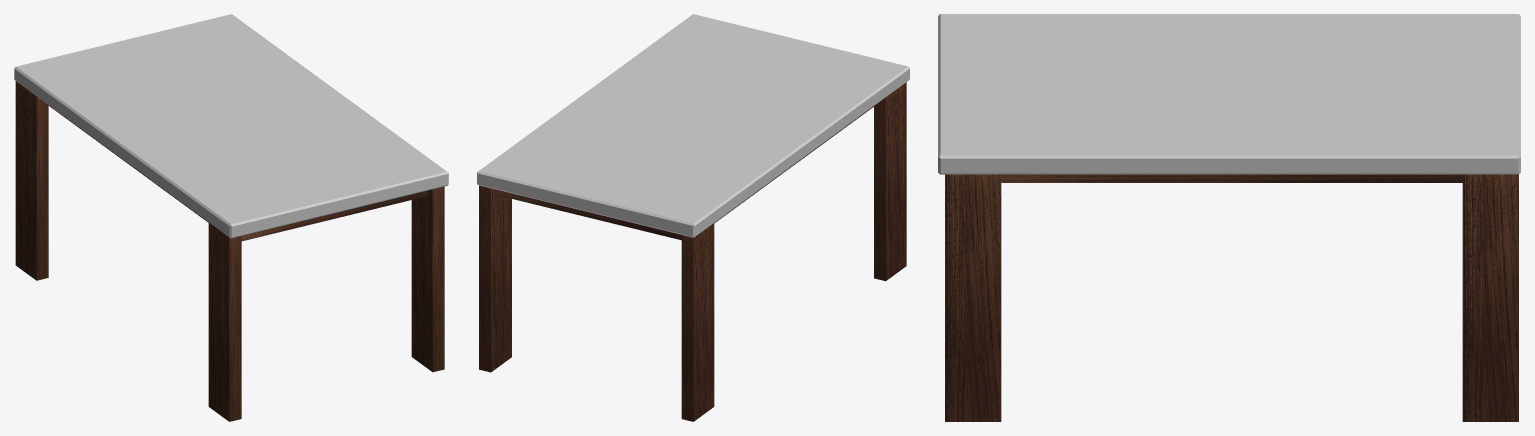
Rendered from Mesa cocina.fbx.
3 renders of one model, left to right at view 1: azimuth 30°, elevation 25°; view 2: azimuth 150°, elevation 25°; view 3: azimuth 270°, elevation 25°, orthographic. The views are drawn at different scales.
Parts seen in each view (by area): view 1: Minimalist_Dining_Table:Minimalistic_TableBody, Minimalist_Dining_Table:Minimalistic_TableLeg_4, Minimalistic_TableLeg_6, Minimalist_Dining_Table:Minimalistic_TableLeg_5, Minimalist_Dining_Table:Minimalistic_TableBodySupport; view 2: Minimalist_Dining_Table:Minimalistic_TableBody, Minimalistic_TableLeg_6, Minimalist_Dining_Table:Minimalistic_TableLeg_4, Minimalist_Dining_Table:Minimalistic_TableLeg_6, Minimalist_Dining_Table:Minimalistic_TableBodySupport; view 3: Minimalist_Dining_Table:Minimalistic_TableBody, Minimalist_Dining_Table:Minimalistic_TableLeg_5, Minimalist_Dining_Table:Minimalistic_TableLeg_6, Minimalist_Dining_Table:Minimalistic_TableBodySupport.
Boxes of the visible parts, x1,y1,x2,y2 form: Minimalist_Dining_Table:Minimalistic_TableBody: (14,14,448,238); Minimalist_Dining_Table:Minimalistic_TableLeg_4: (208,222,241,421); Minimalistic_TableLeg_6: (15,81,48,280); Minimalist_Dining_Table:Minimalistic_TableLeg_5: (411,186,444,372); Minimalist_Dining_Table:Minimalistic_TableBodySupport: (48,105,427,241); Minimalist_Dining_Table:Minimalistic_TableBody: (477,14,909,237); Minimalistic_TableLeg_6: (681,223,714,421); Minimalist_Dining_Table:Minimalistic_TableLeg_4: (874,82,906,281); Minimalist_Dining_Table:Minimalistic_TableLeg_6: (479,185,511,372); Minimalist_Dining_Table:Minimalistic_TableBodySupport: (497,105,874,240); Minimalist_Dining_Table:Minimalistic_TableBody: (938,14,1520,174); Minimalist_Dining_Table:Minimalistic_TableLeg_5: (945,174,1001,421); Minimalist_Dining_Table:Minimalistic_TableLeg_6: (1462,174,1518,421); Minimalist_Dining_Table:Minimalistic_TableBodySupport: (1001,174,1462,182).
Bounding box in the file's own units: 90.66 × 78.66 × 156.
